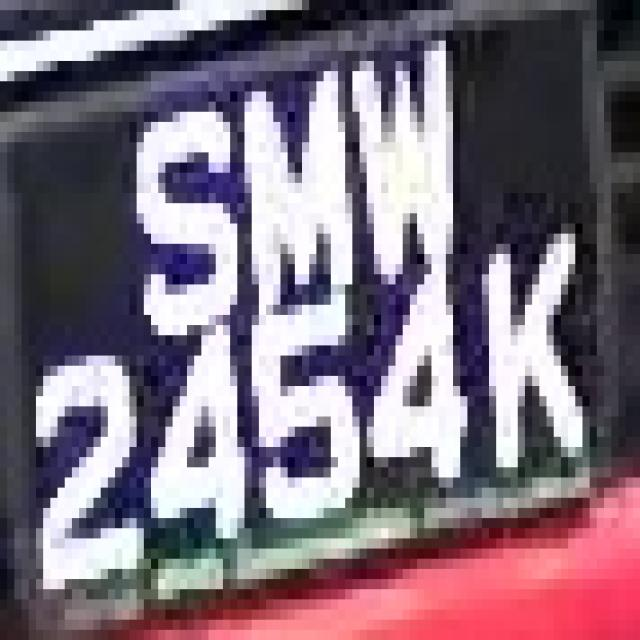2: (7, 325, 158, 620)
4: (338, 264, 475, 508), (130, 304, 244, 558)
5: (245, 274, 366, 538)
K: (475, 213, 604, 478)
M: (223, 61, 374, 325)
S: (115, 71, 252, 325)
W: (323, 31, 468, 284)
